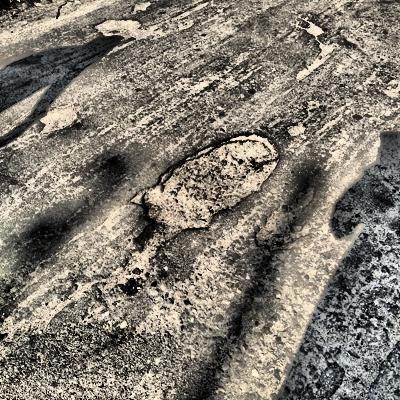pothole: (118, 131, 279, 273), (253, 182, 319, 249), (288, 18, 337, 81), (33, 102, 83, 134), (93, 17, 149, 44), (284, 121, 307, 137), (131, 0, 151, 13)
